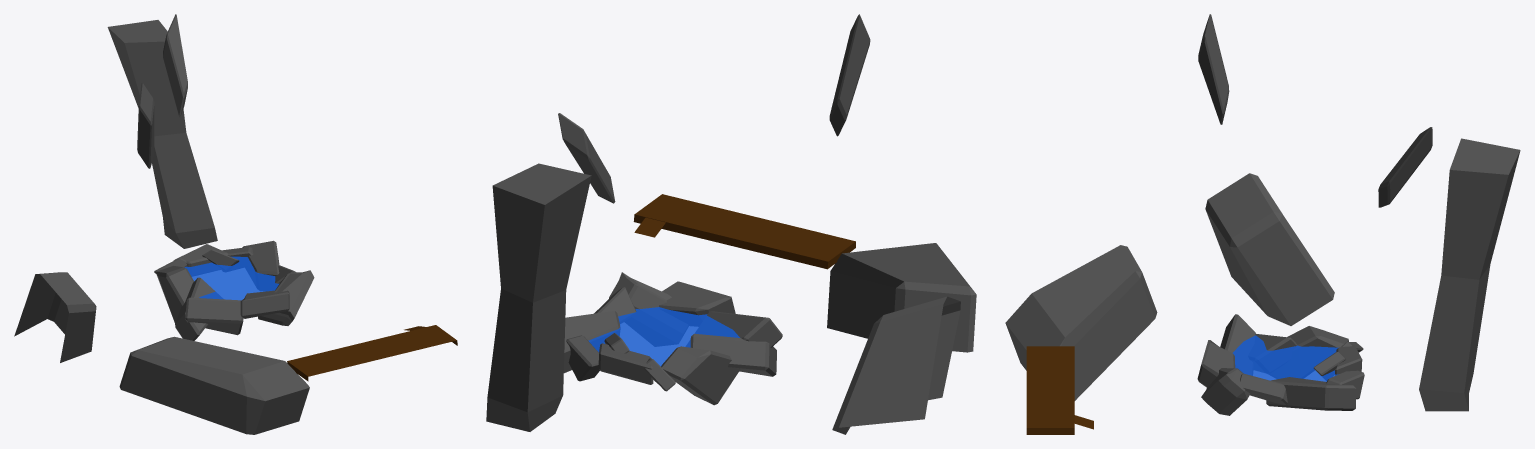
The model's file is level_fillings.glb.
3 views of the same model, side by side, from view 1: azimuth 30°, elevation 25°; view 2: azimuth 150°, elevation 25°; view 3: azimuth 270°, elevation 25° (orthographic). The views are drawn at different scales.
Parts seen in each view (by area): view 1: Cube.004, Cube.005, wooden_platform, Water; view 2: Cube.004, Cube.005, wooden_platform, Water; view 3: Cube.004, Cube.005, wooden_platform, Water.
Part boxes in pixels (x1,y1,x2,y2): Cube.004: (14,14,314,434); Cube.005: (107,20,217,248); wooden_platform: (287,325,457,381); Water: (184,256,279,300); Cube.004: (558,14,976,434); Cube.005: (486,163,591,431); wooden_platform: (633,194,855,269); Water: (588,307,739,366); Cube.004: (1005,14,1432,415); Cube.005: (1419,138,1520,411); wooden_platform: (1026,346,1093,434); Water: (1232,335,1339,381).
Bounding box in the file's own units: 81.4 × 74.88 × 100.
